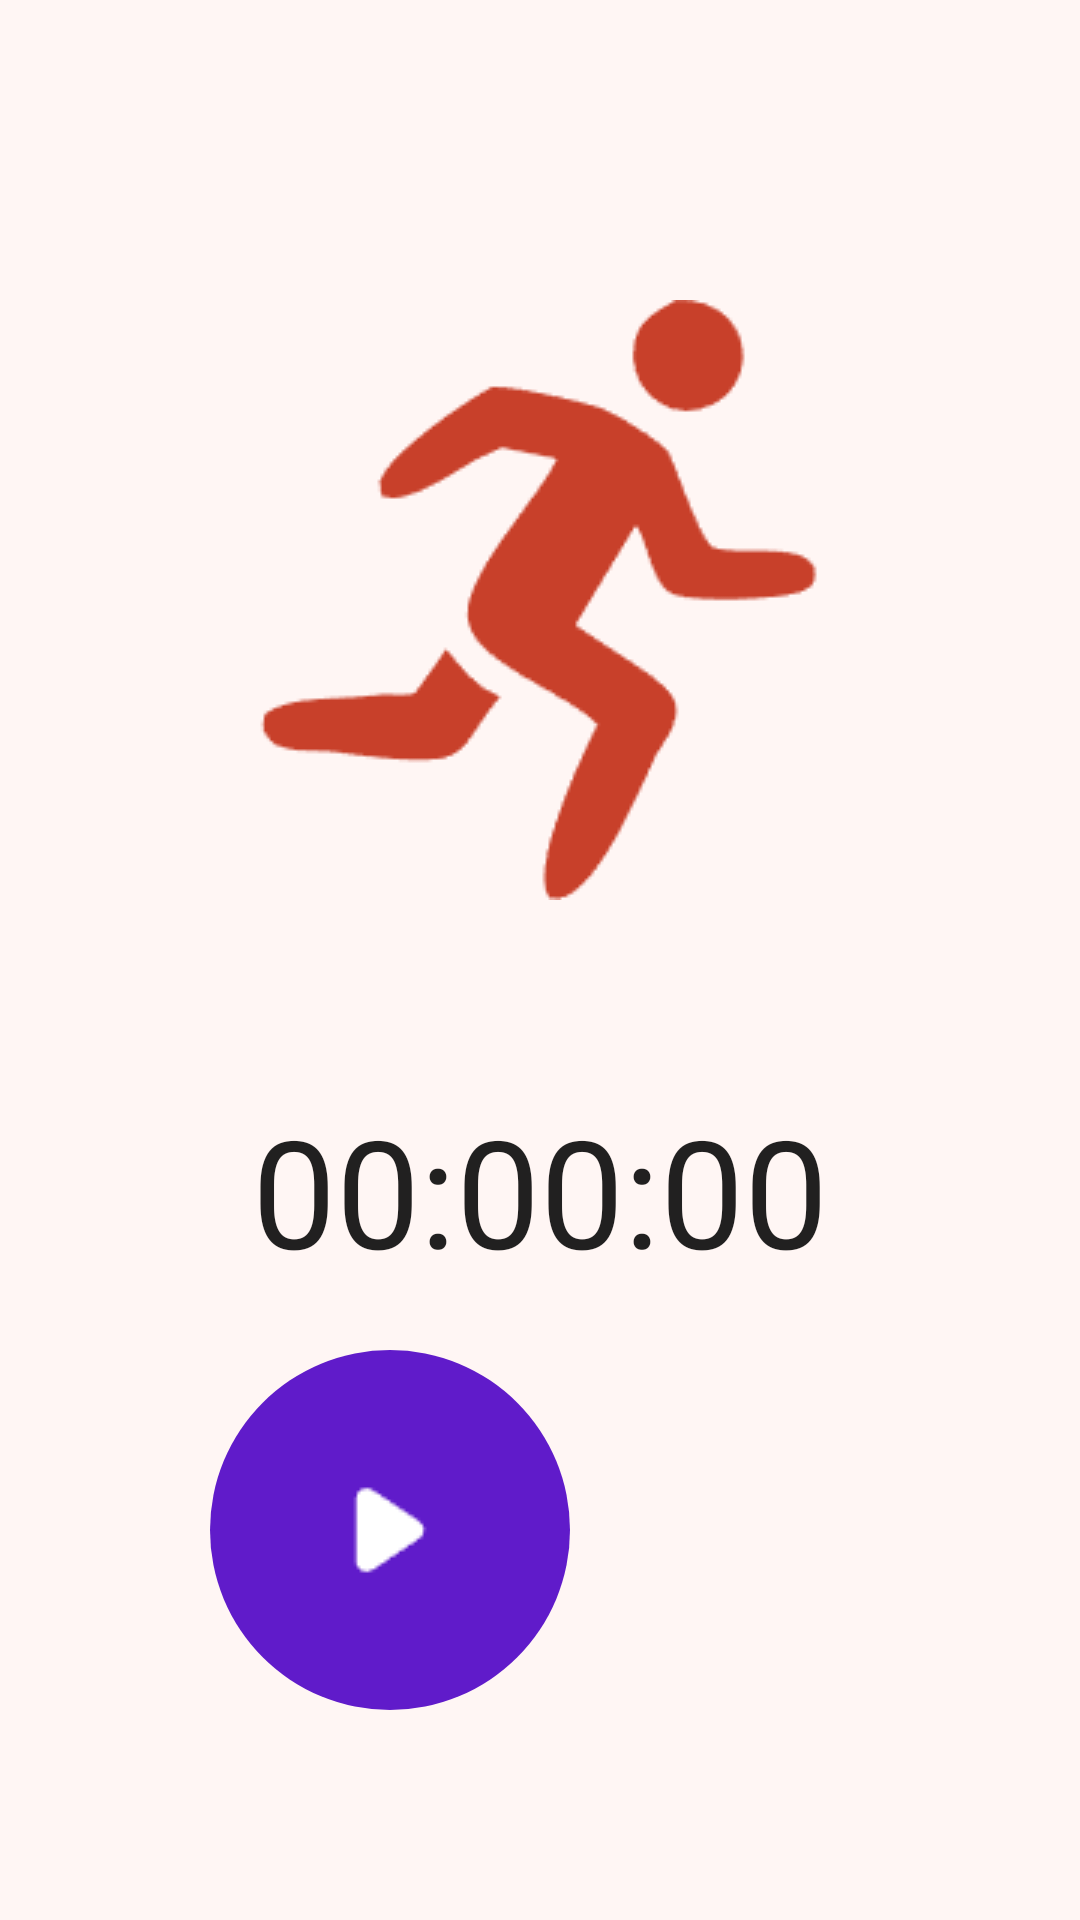

Screen size 1080*1920. Icon name, then its box in pixels as (x1, y1, x2, y2):
start: (210, 1350, 570, 1710)
